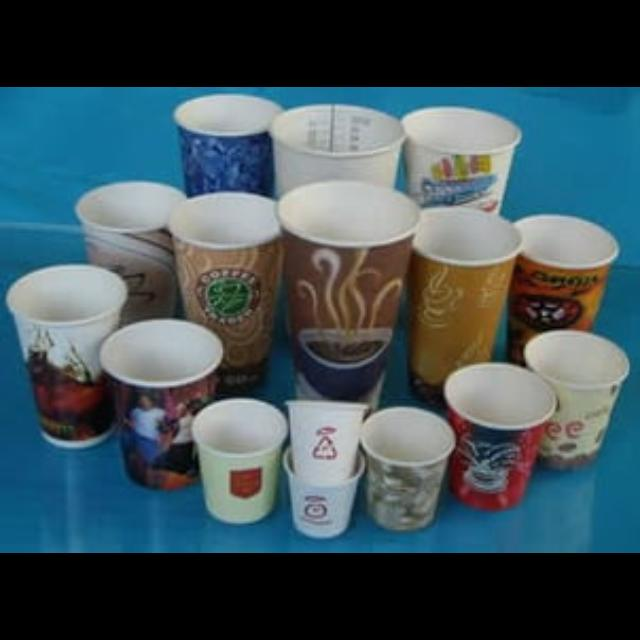trash: (278, 182, 419, 408), (5, 264, 129, 446), (100, 320, 222, 488), (444, 362, 558, 512), (192, 398, 290, 522)
